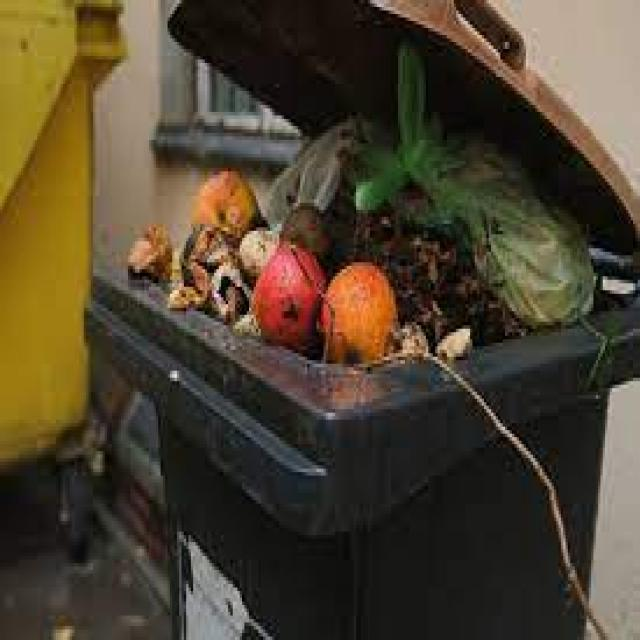Organik: (100, 105, 592, 502), (369, 60, 603, 344)
